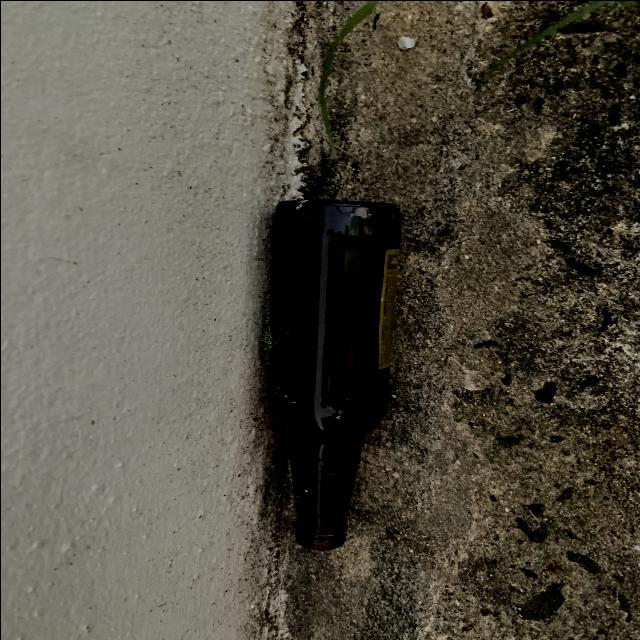Glass bottle: (265, 199, 401, 549)
